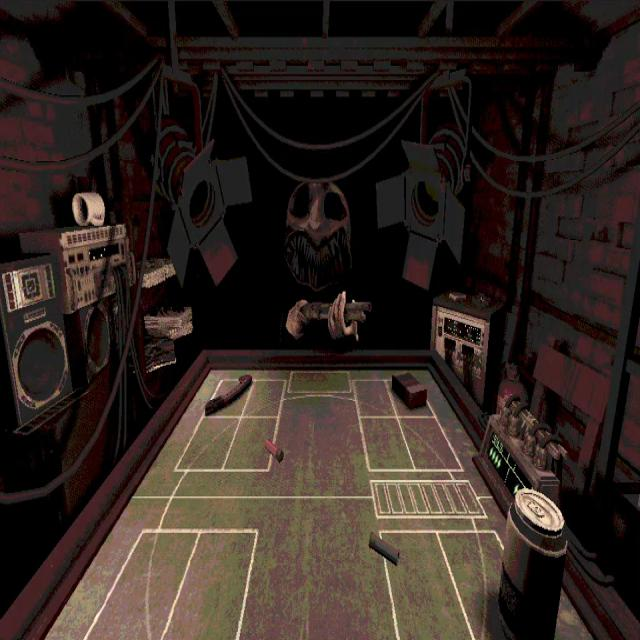ally: (29, 475, 611, 639)
can: (499, 484, 567, 639)
cigar: (391, 372, 428, 409)
doubledamage: (205, 373, 253, 413)
emptyspace: (85, 527, 201, 639), (379, 530, 479, 639), (159, 530, 257, 639), (176, 411, 243, 468), (399, 413, 460, 470), (362, 416, 417, 472), (224, 414, 279, 469), (243, 376, 287, 417), (352, 381, 397, 415)
enemyspace: (138, 352, 503, 481)
